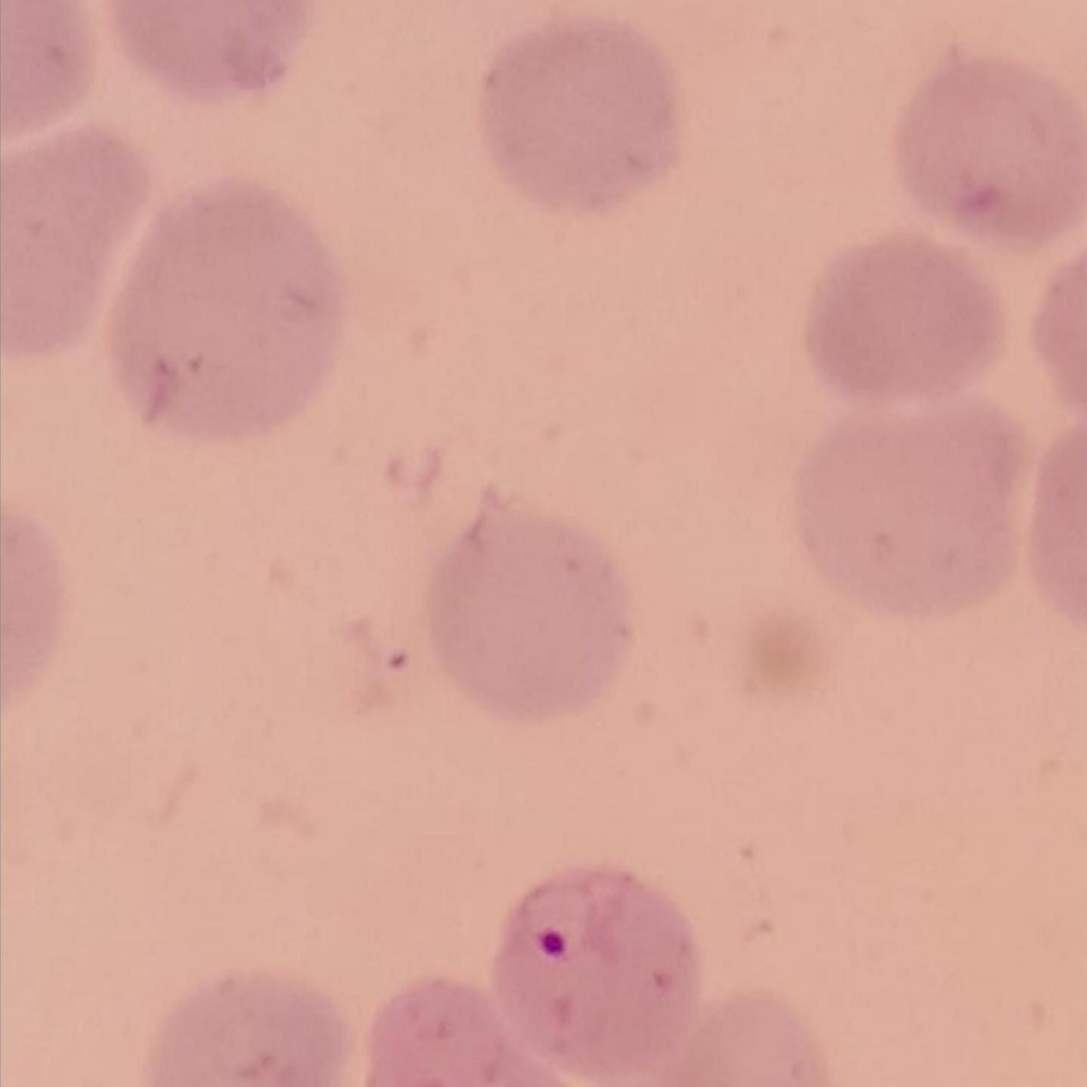Infected: (494, 864, 702, 1072)
Uninfected: (102, 174, 339, 442), (788, 402, 1025, 614), (422, 502, 634, 707), (477, 21, 677, 210), (900, 64, 1087, 243), (807, 232, 1004, 400), (0, 127, 138, 357), (143, 970, 361, 1087)
